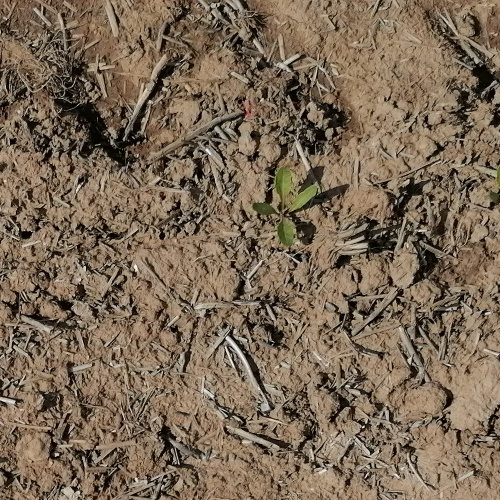beet: (253, 169, 317, 247)
